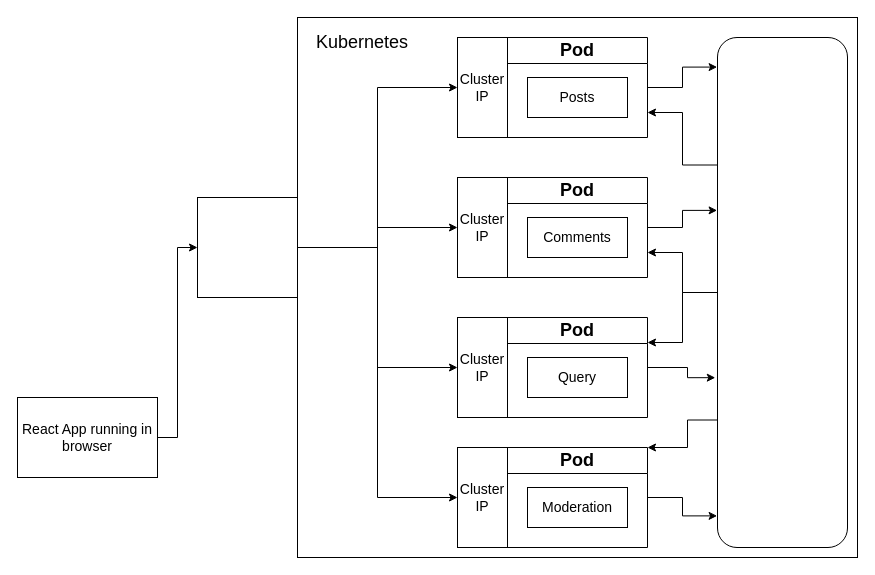
The diagram is 875 pixels wide and 575 high, and some of its shapes have lost their labels. Here are the shapes that lost their labels. From the top down, the centre of each, then its label:
point (247, 247): Load Balancer Service
point (782, 292): Custom Event Bus Pod
